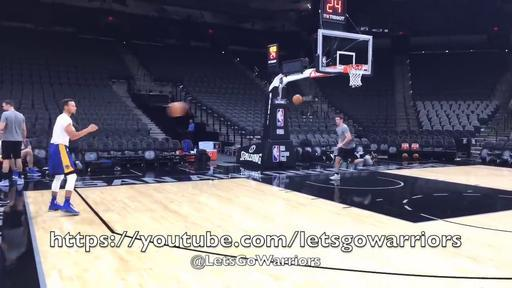ball: (168, 101, 188, 116), (292, 94, 302, 104)
human: (48, 98, 98, 215), (328, 114, 374, 180), (4, 100, 26, 186)
rim: (346, 64, 364, 86)
